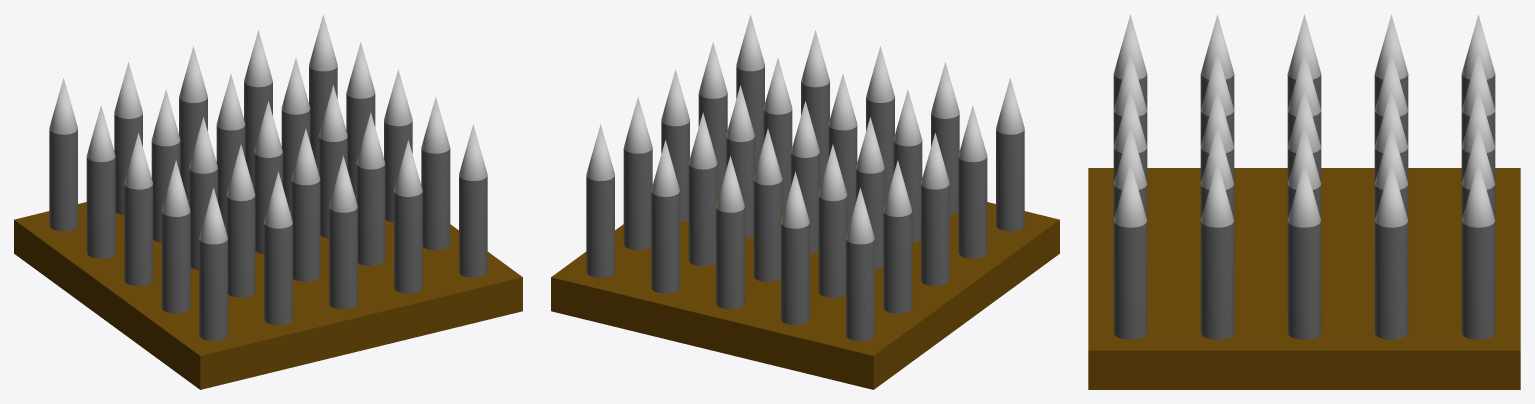
The model's file is Spike Trap.fbx.
3 views of the same model, side by side, from view 1: azimuth 30°, elevation 25°; view 2: azimuth 150°, elevation 25°; view 3: azimuth 270°, elevation 25° (orthographic). The views are drawn at different scales.
Parts seen in each view (by area): view 1: polySurface7, polySurface18, polySurface1, polySurface16, polySurface14, polySurface2, polySurface19, polySurface20, polySurface13, polySurface8, polySurface15, polySurface17 (+14 smaller); view 2: polySurface7, polySurface1, polySurface18, polySurface4, polySurface12, polySurface2, polySurface10, polySurface11, polySurface15, polySurface9, polySurface13, polySurface26 (+14 smaller); view 3: polySurface7, polySurface4, polySurface16, polySurface23, polySurface8, polySurface9, polySurface2, polySurface13, polySurface15, polySurface1, polySurface3, polySurface18 (+14 smaller).
Part boxes in pixels (box(x1,y1,x2,y2)): polySurface7: box(14, 167, 522, 389); polySurface18: box(161, 160, 190, 313); polySurface1: box(86, 105, 115, 258); polySurface16: box(421, 96, 450, 250); polySurface14: box(264, 171, 292, 325); polySurface2: box(124, 133, 152, 286); polySurface19: box(394, 140, 422, 293); polySurface20: box(329, 156, 357, 309); polySurface13: box(49, 78, 77, 231); polySurface8: box(459, 124, 487, 277); polySurface15: box(199, 188, 227, 340); polySurface17: box(226, 144, 255, 297); polySurface7: box(551, 167, 1059, 389); polySurface1: box(883, 160, 912, 313); polySurface18: box(958, 105, 987, 258); polySurface4: box(623, 96, 652, 250); polySurface12: box(781, 171, 809, 325); polySurface2: box(921, 133, 949, 286); polySurface10: box(651, 140, 679, 293); polySurface11: box(716, 156, 744, 309); polySurface15: box(996, 78, 1024, 231); polySurface9: box(586, 124, 614, 277); polySurface13: box(846, 188, 874, 340); polySurface26: box(818, 144, 847, 297); polySurface7: box(1088, 168, 1520, 389); polySurface4: box(1374, 161, 1408, 339); polySurface16: box(1200, 161, 1234, 339); polySurface23: box(1287, 161, 1321, 339); polySurface8: box(1113, 161, 1147, 339); polySurface9: box(1461, 161, 1495, 339); polySurface2: box(1287, 14, 1321, 109); polySurface13: box(1461, 14, 1495, 109); polySurface15: box(1113, 14, 1147, 109); polySurface1: box(1374, 14, 1408, 109); polySurface3: box(1287, 124, 1321, 219); polySurface18: box(1200, 14, 1234, 109).
Bounding box in the file's own units: 84.09 × 45.3 × 84.09.
